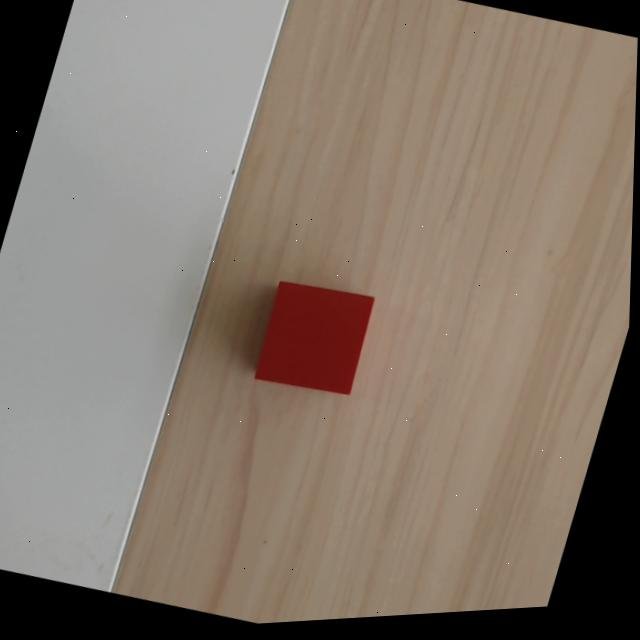Kubus-Merah-505050: (254, 272, 375, 401)
